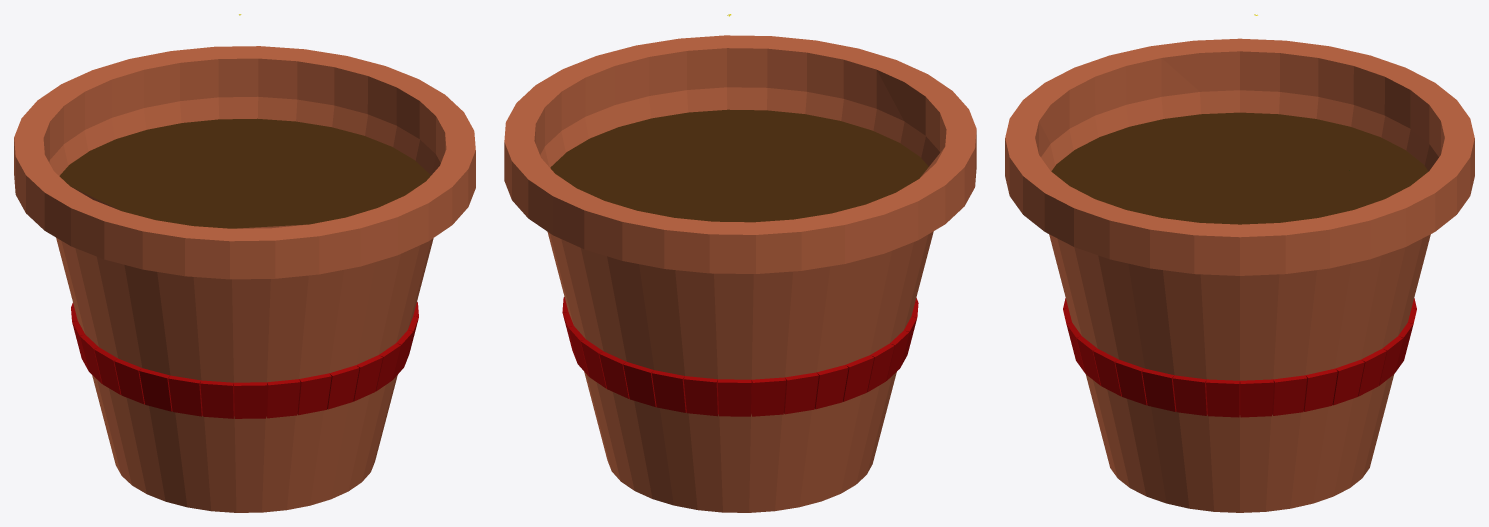
The model's file is finalFlowerPot(Aisle).fbx.
The picture shows the model from 3 angles, left to right: view 1: azimuth 30°, elevation 25°; view 2: azimuth 150°, elevation 25°; view 3: azimuth 270°, elevation 25°; orthographic projection. The views are drawn at different scales.
Visible parts, largest first — view 1: flower pot; view 2: flower pot; view 3: flower pot.
Boxes of the visible parts, box(x1,y1,x2,y2) form: flower pot: box(14, 46, 475, 512); flower pot: box(504, 35, 976, 512); flower pot: box(1005, 38, 1474, 512).
Size of the model in its own units: 20.25 by 21.13 by 20.25.
